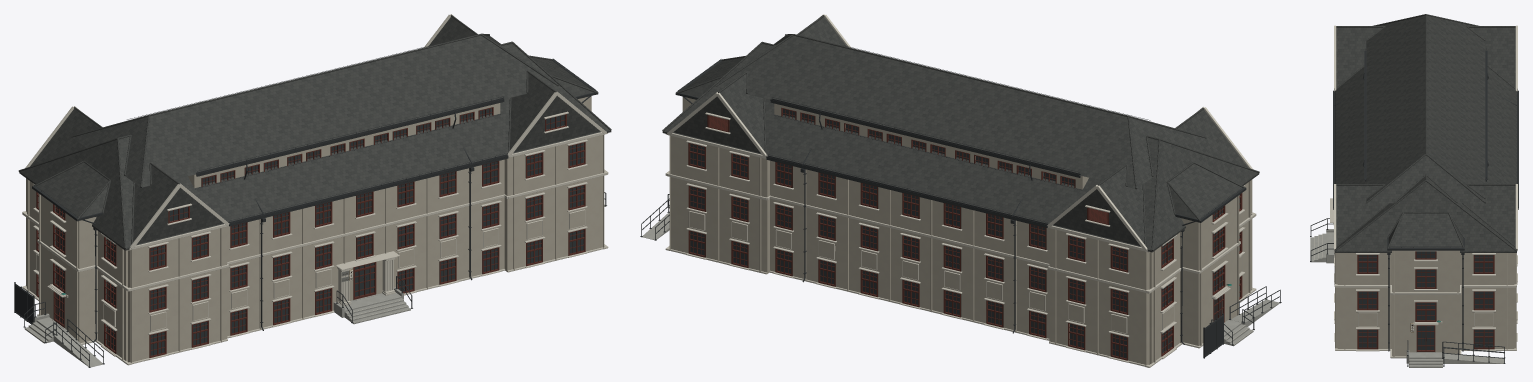
The model's file is buildings-42-far.glb.
3 views of the same model, side by side, from view 1: azimuth 30°, elevation 25°; view 2: azimuth 150°, elevation 25°; view 3: azimuth 270°, elevation 25° (orthographic). The views are drawn at different scales.
Visible parts, largest first — view 1: HB42_V13_WEB_HB42_V13_WeatheredCharcoalTile, HB42_V13_WEB_HB42_V13_WarmMineralPlaster, HB42_V13_WEB_HB42_V13_PaleStone, HB42_V13_WEB_HB42_V13_CharcoalMetal, HB42_V13_WEB_HB42_V13_GraniteSteps, HB42_V13_Component_W_06_F1_door, HB42_V13_WEB_HB42_V13_DeepReveal; view 2: HB42_V13_WEB_HB42_V13_WeatheredCharcoalTile, HB42_V13_WEB_HB42_V13_WarmMineralPlaster, HB42_V13_WEB_HB42_V13_PaleStone, HB42_V13_WEB_HB42_V13_CharcoalMetal, HB42_V13_WEB_HB42_V13_GraniteSteps, HB42_V13_WEB_HB42_V13_DeepReveal; view 3: HB42_V13_WEB_HB42_V13_WeatheredCharcoalTile, HB42_V13_WEB_HB42_V13_WarmMineralPlaster, HB42_V13_WEB_HB42_V13_PaleStone, HB42_V13_WEB_HB42_V13_CharcoalMetal, HB42_V13_WEB_HB42_V13_GraniteSteps, HB42_V13_Component_S_02_entry_door, HB42_V13_Component_S_03_F1_window, HB42_V13_Component_S_01_F1_window, HB42_V13_Component_S_02_landing_lower_window, HB42_V13_Component_S_02_landing_upper_window, HB42_V13_Component_S_01_F2_window, HB42_V13_Component_S_03_F2_window (+3 smaller).
Part boxes in pixels (x1=…): HB42_V13_WEB_HB42_V13_WeatheredCharcoalTile: x1=18, y1=15, x2=611, y2=250; HB42_V13_WEB_HB42_V13_WarmMineralPlaster: x1=26, y1=96, x2=604, y2=362; HB42_V13_WEB_HB42_V13_PaleStone: x1=22, y1=14, x2=608, y2=365; HB42_V13_WEB_HB42_V13_CharcoalMetal: x1=14, y1=45, x2=606, y2=367; HB42_V13_WEB_HB42_V13_GraniteSteps: x1=24, y1=205, x2=605, y2=367; HB42_V13_Component_W_06_F1_door: x1=353, y1=262, x2=376, y2=299; HB42_V13_WEB_HB42_V13_DeepReveal: x1=64, y1=107, x2=525, y2=353; HB42_V13_WEB_HB42_V13_WeatheredCharcoalTile: x1=662, y1=15, x2=1259, y2=252; HB42_V13_WEB_HB42_V13_WarmMineralPlaster: x1=669, y1=97, x2=1252, y2=365; HB42_V13_WEB_HB42_V13_PaleStone: x1=665, y1=14, x2=1256, y2=367; HB42_V13_WEB_HB42_V13_CharcoalMetal: x1=640, y1=45, x2=1281, y2=358; HB42_V13_WEB_HB42_V13_GraniteSteps: x1=642, y1=206, x2=1279, y2=346; HB42_V13_WEB_HB42_V13_DeepReveal: x1=705, y1=107, x2=1128, y2=360; HB42_V13_WEB_HB42_V13_WeatheredCharcoalTile: x1=1334, y1=14, x2=1517, y2=252; HB42_V13_WEB_HB42_V13_WarmMineralPlaster: x1=1335, y1=250, x2=1516, y2=358; HB42_V13_WEB_HB42_V13_PaleStone: x1=1314, y1=25, x2=1517, y2=358; HB42_V13_WEB_HB42_V13_CharcoalMetal: x1=1310, y1=48, x2=1518, y2=366; HB42_V13_WEB_HB42_V13_GraniteSteps: x1=1310, y1=229, x2=1504, y2=367; HB42_V13_Component_S_02_entry_door: x1=1416, y1=325, x2=1435, y2=351; HB42_V13_Component_S_03_F1_window: x1=1357, y1=329, x2=1378, y2=349; HB42_V13_Component_S_01_F1_window: x1=1473, y1=329, x2=1494, y2=349; HB42_V13_Component_S_02_landing_lower_window: x1=1415, y1=302, x2=1436, y2=321; HB42_V13_Component_S_02_landing_upper_window: x1=1415, y1=269, x2=1436, y2=288; HB42_V13_Component_S_01_F2_window: x1=1473, y1=291, x2=1494, y2=310; HB42_V13_Component_S_03_F2_window: x1=1357, y1=291, x2=1378, y2=310.
Bounding box in the file's own units: 39.32 × 12.96 × 14.72.
14 materials, 4 textured.
